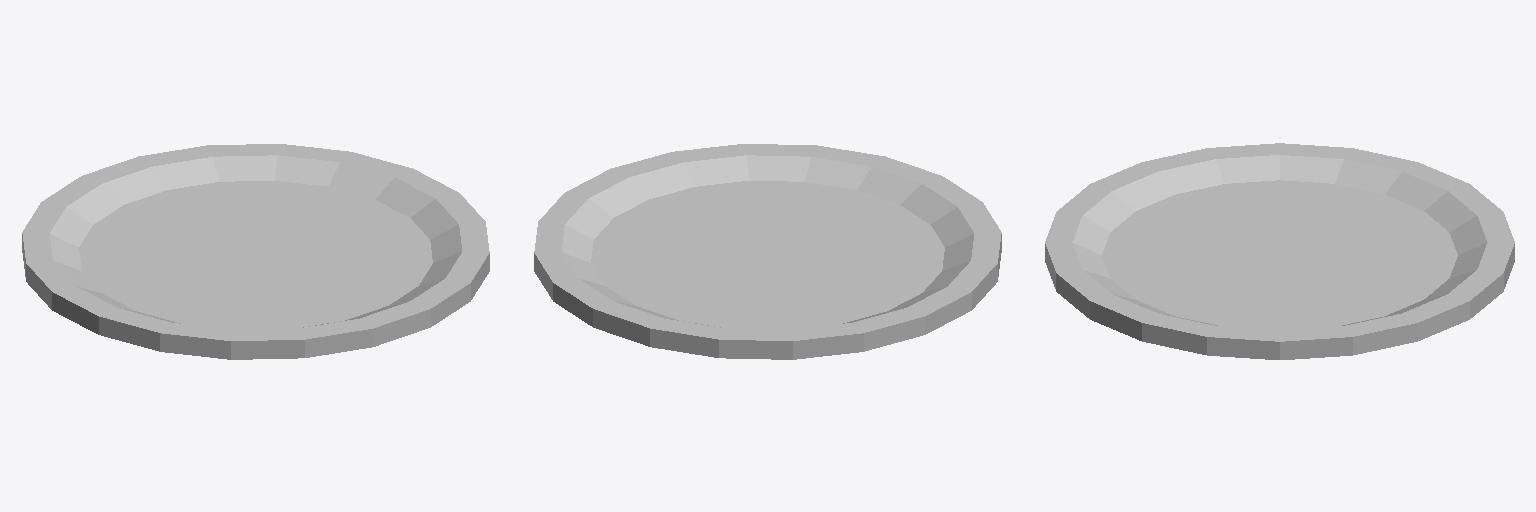
File: plate.obj
3 renders of one model, left to right at view 1: azimuth 30°, elevation 25°; view 2: azimuth 150°, elevation 25°; view 3: azimuth 270°, elevation 25°, orthographic.
Parts seen in each view (by area): view 1: pCylinder1; view 2: pCylinder1; view 3: pCylinder1.
Boxes of the visible parts, box(x1,y1,x2,y2) form: pCylinder1: box(22, 144, 489, 359); pCylinder1: box(534, 144, 1001, 359); pCylinder1: box(1045, 143, 1514, 359).
Size of the model in its own units: 2 by 0.1265 by 2.